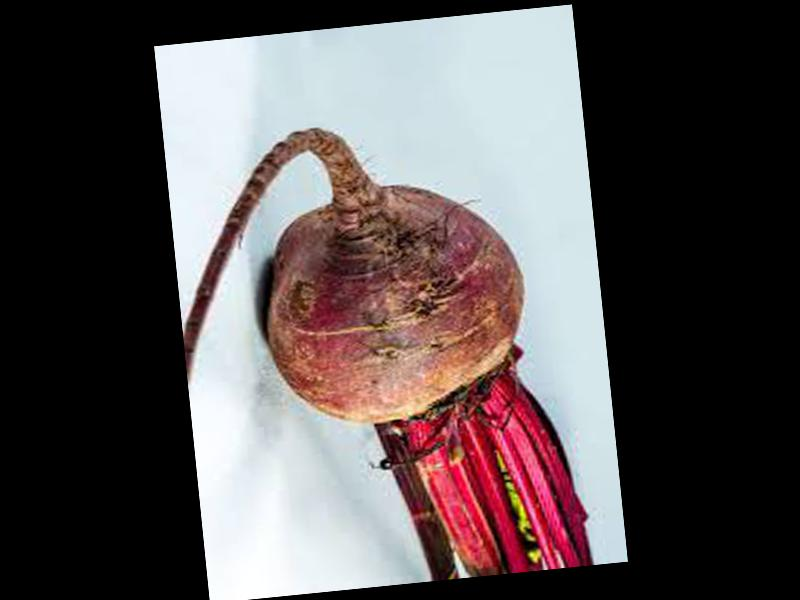Beet: (168, 104, 595, 600)
